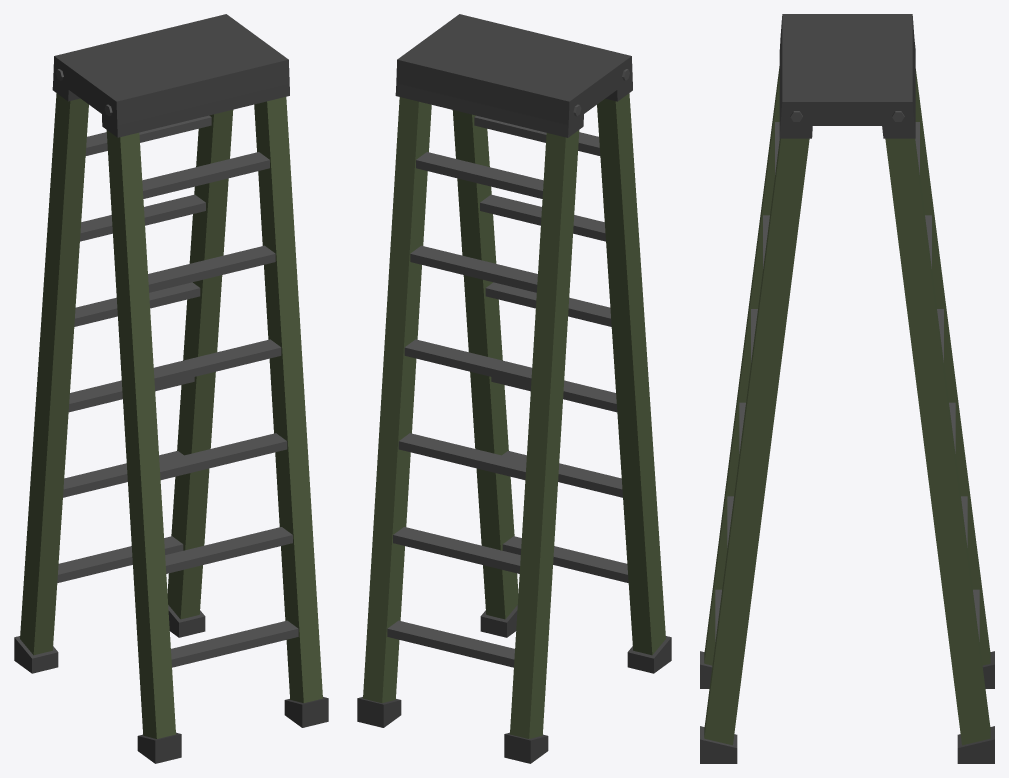
The model's file is SM_IndustrialProps_Construction_02.fbx.
3 views of the same model, side by side, from view 1: azimuth 30°, elevation 25°; view 2: azimuth 150°, elevation 25°; view 3: azimuth 270°, elevation 25° (orthographic). The views are drawn at different scales.
Visible parts, largest first — view 1: SM_IndustrialProps_Construction_02; view 2: SM_IndustrialProps_Construction_02; view 3: SM_IndustrialProps_Construction_02.
Part boxes in pixels (<box>): SM_IndustrialProps_Construction_02: <box>14,14,328,763</box>; SM_IndustrialProps_Construction_02: <box>357,14,671,763</box>; SM_IndustrialProps_Construction_02: <box>700,14,994,763</box>.
Bounding box in the file's own units: 0.5914 × 2.03 × 0.8183.
